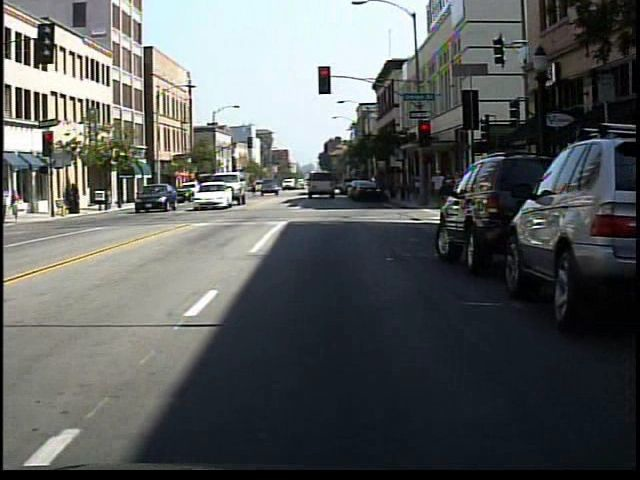person: (5, 185, 26, 225), (429, 166, 448, 207), (9, 183, 27, 226), (245, 173, 262, 201)
